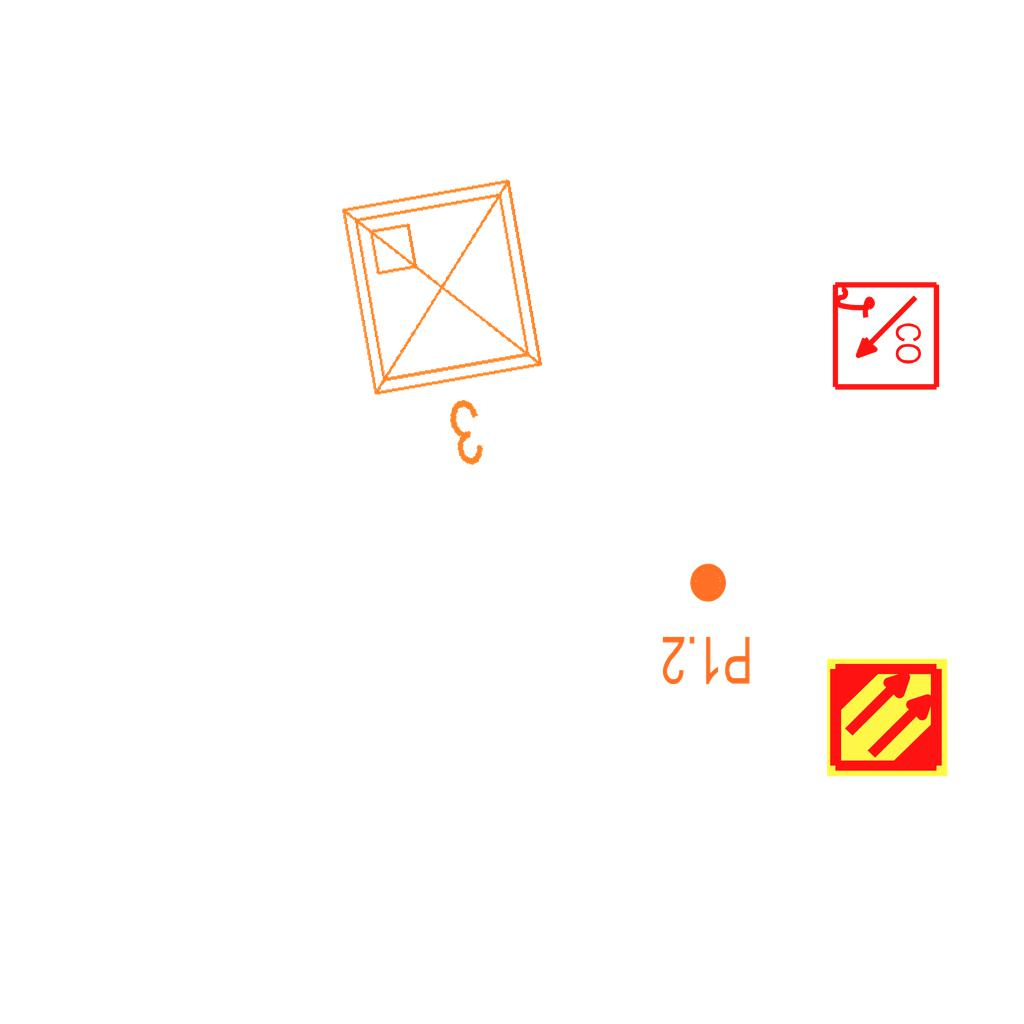ASR_Ansaugrauchmelder: (825, 655, 950, 780)
Downlight_LED_Einbauleuchten_Flur: (660, 560, 753, 688)
Einbaudownlights_LED_Konferenzraeume: (324, 161, 582, 493)
ROA_Rauchmelder_optisch_mit_Signalgeber_(Sockelsirene): (828, 280, 941, 393)
